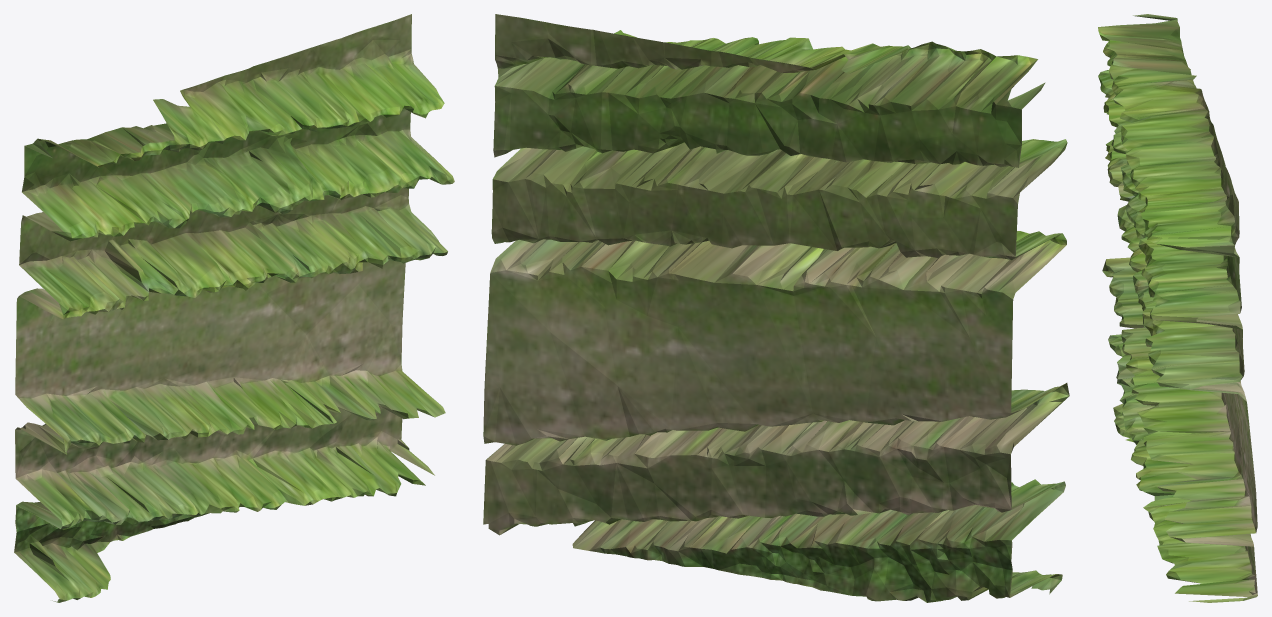
File: map_40_0.obj
3 renders of one model, left to right at view 1: azimuth 30°, elevation 25°; view 2: azimuth 150°, elevation 25°; view 3: azimuth 270°, elevation 25°, orthographic. The views are drawn at different scales.
Parts seen in each view (by area): view 1: grp1; view 2: grp1; view 3: grp1.
Part boxes in pixels (<box>): grp1: <box>14,14,454,602</box>; grp1: <box>483,14,1069,602</box>; grp1: <box>1098,14,1257,602</box>.
Size of the model in its own units: 10 by 10 by 3.61.
Materials: 1 (1 with a texture image).
